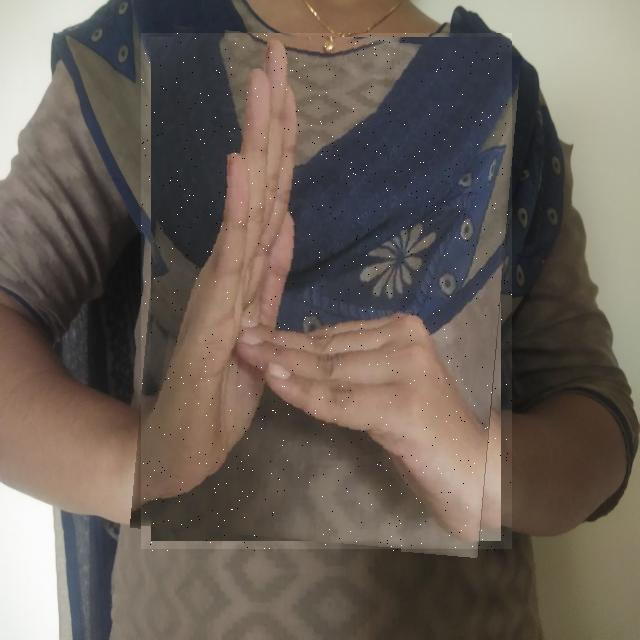Z: (141, 34, 512, 552)
